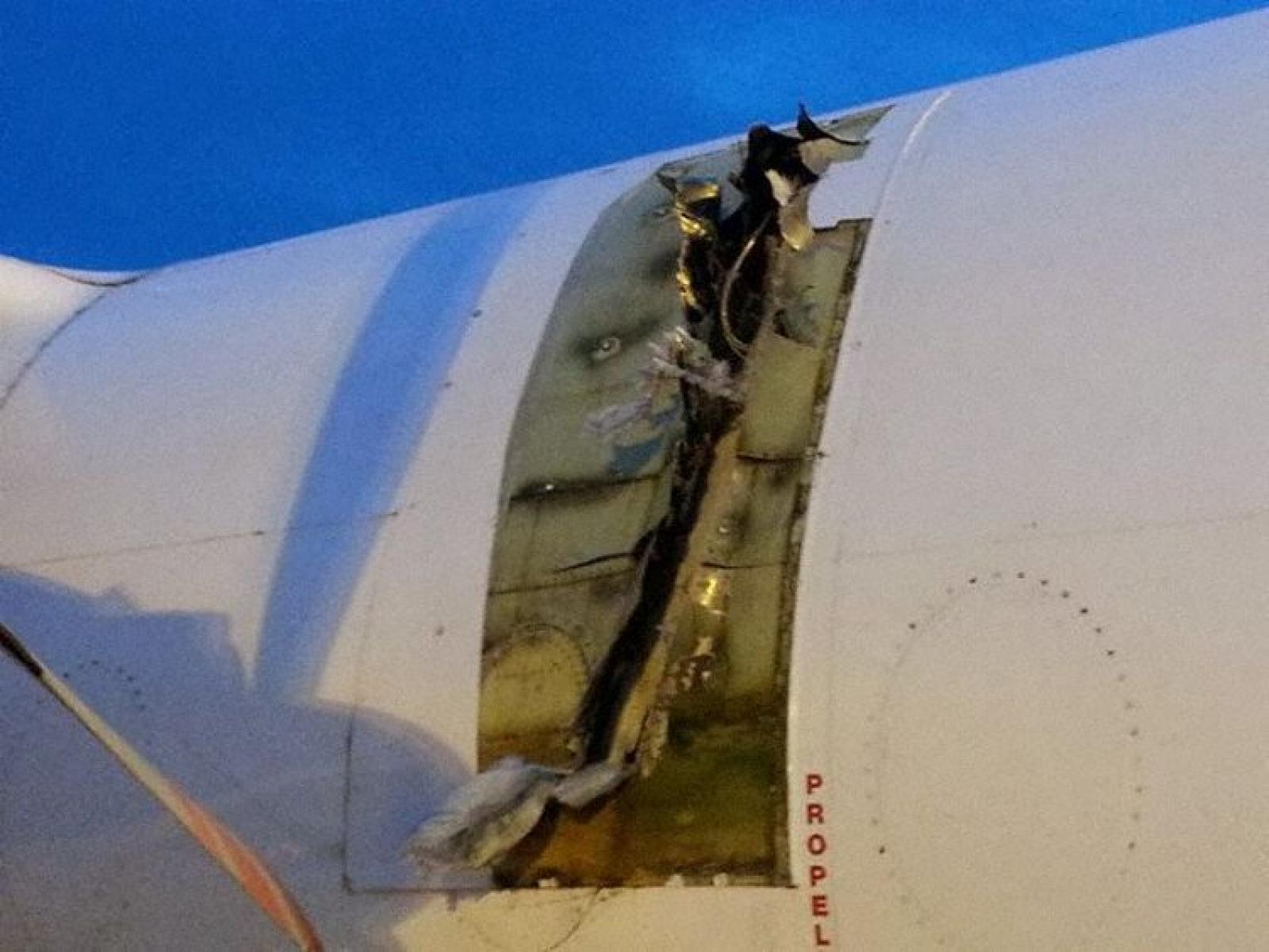Fuselage_damage: (409, 107, 890, 886)
Skin_Cover: (409, 107, 890, 886)
